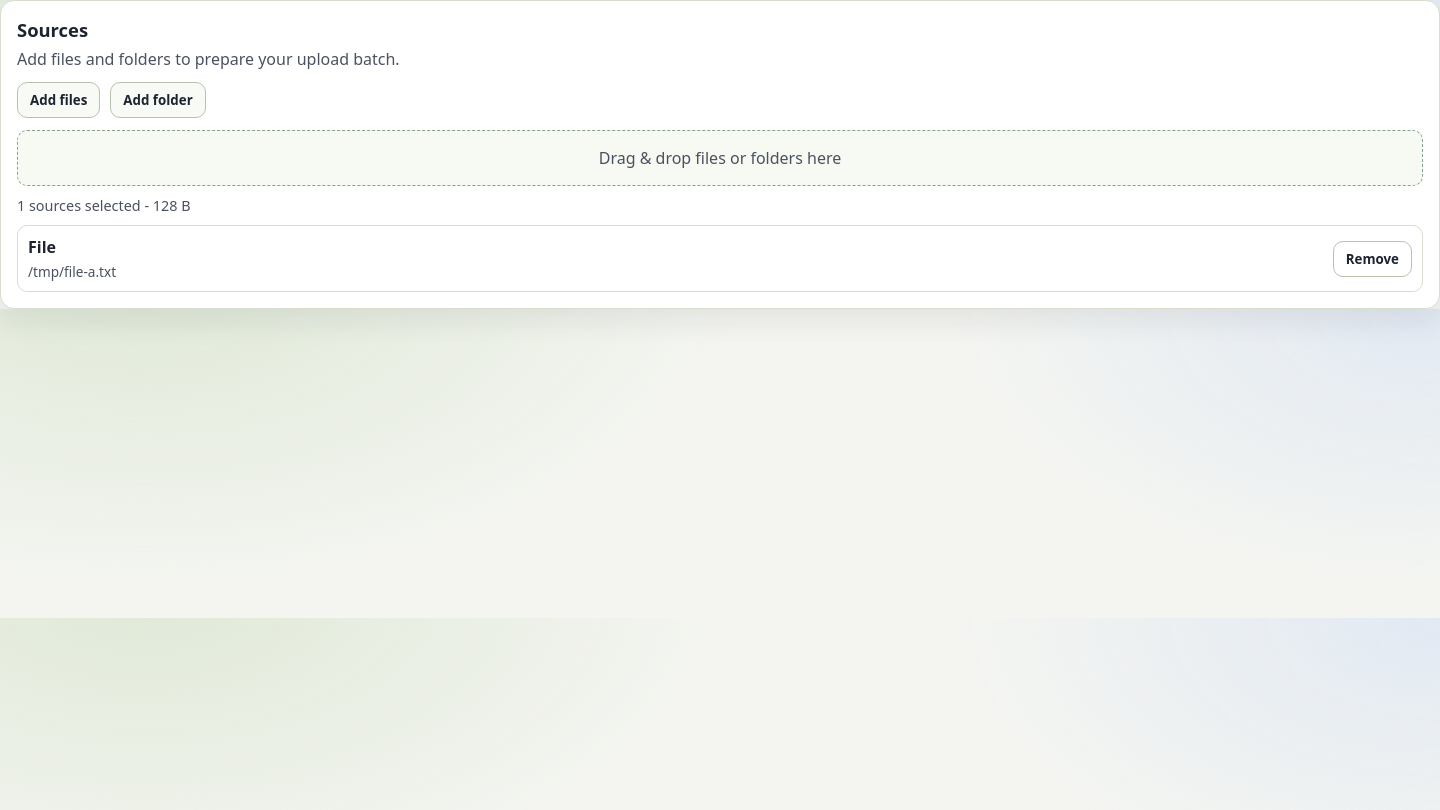
Scenario: SourceManager › shows API feedback when remove fails
Click the button "Remove" at coordinates (1372, 258), box top-left (1333, 240), bottom-right (1412, 276)
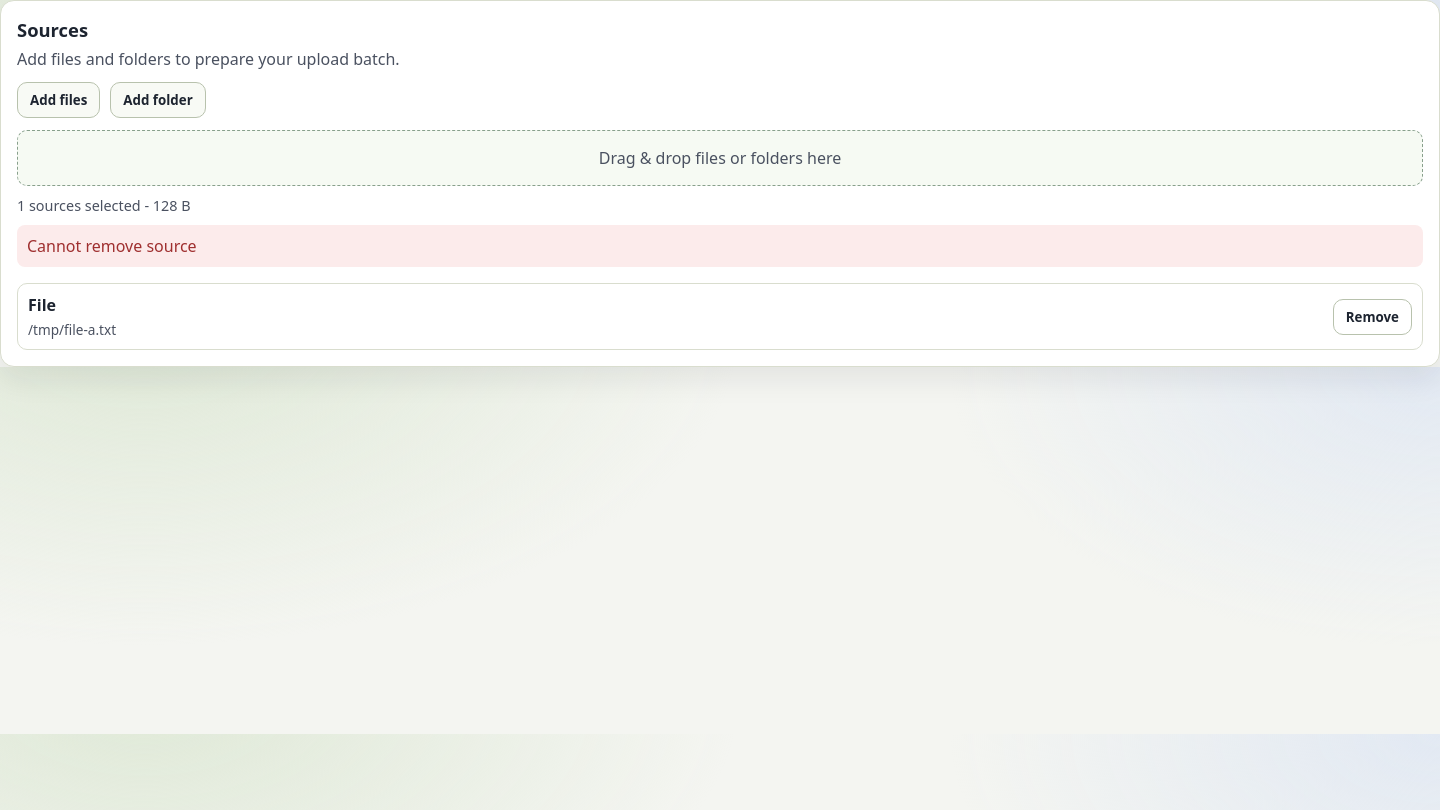
Now the text "Cannot remove source" is shown, box top-left (17, 225), bottom-right (1423, 267)
